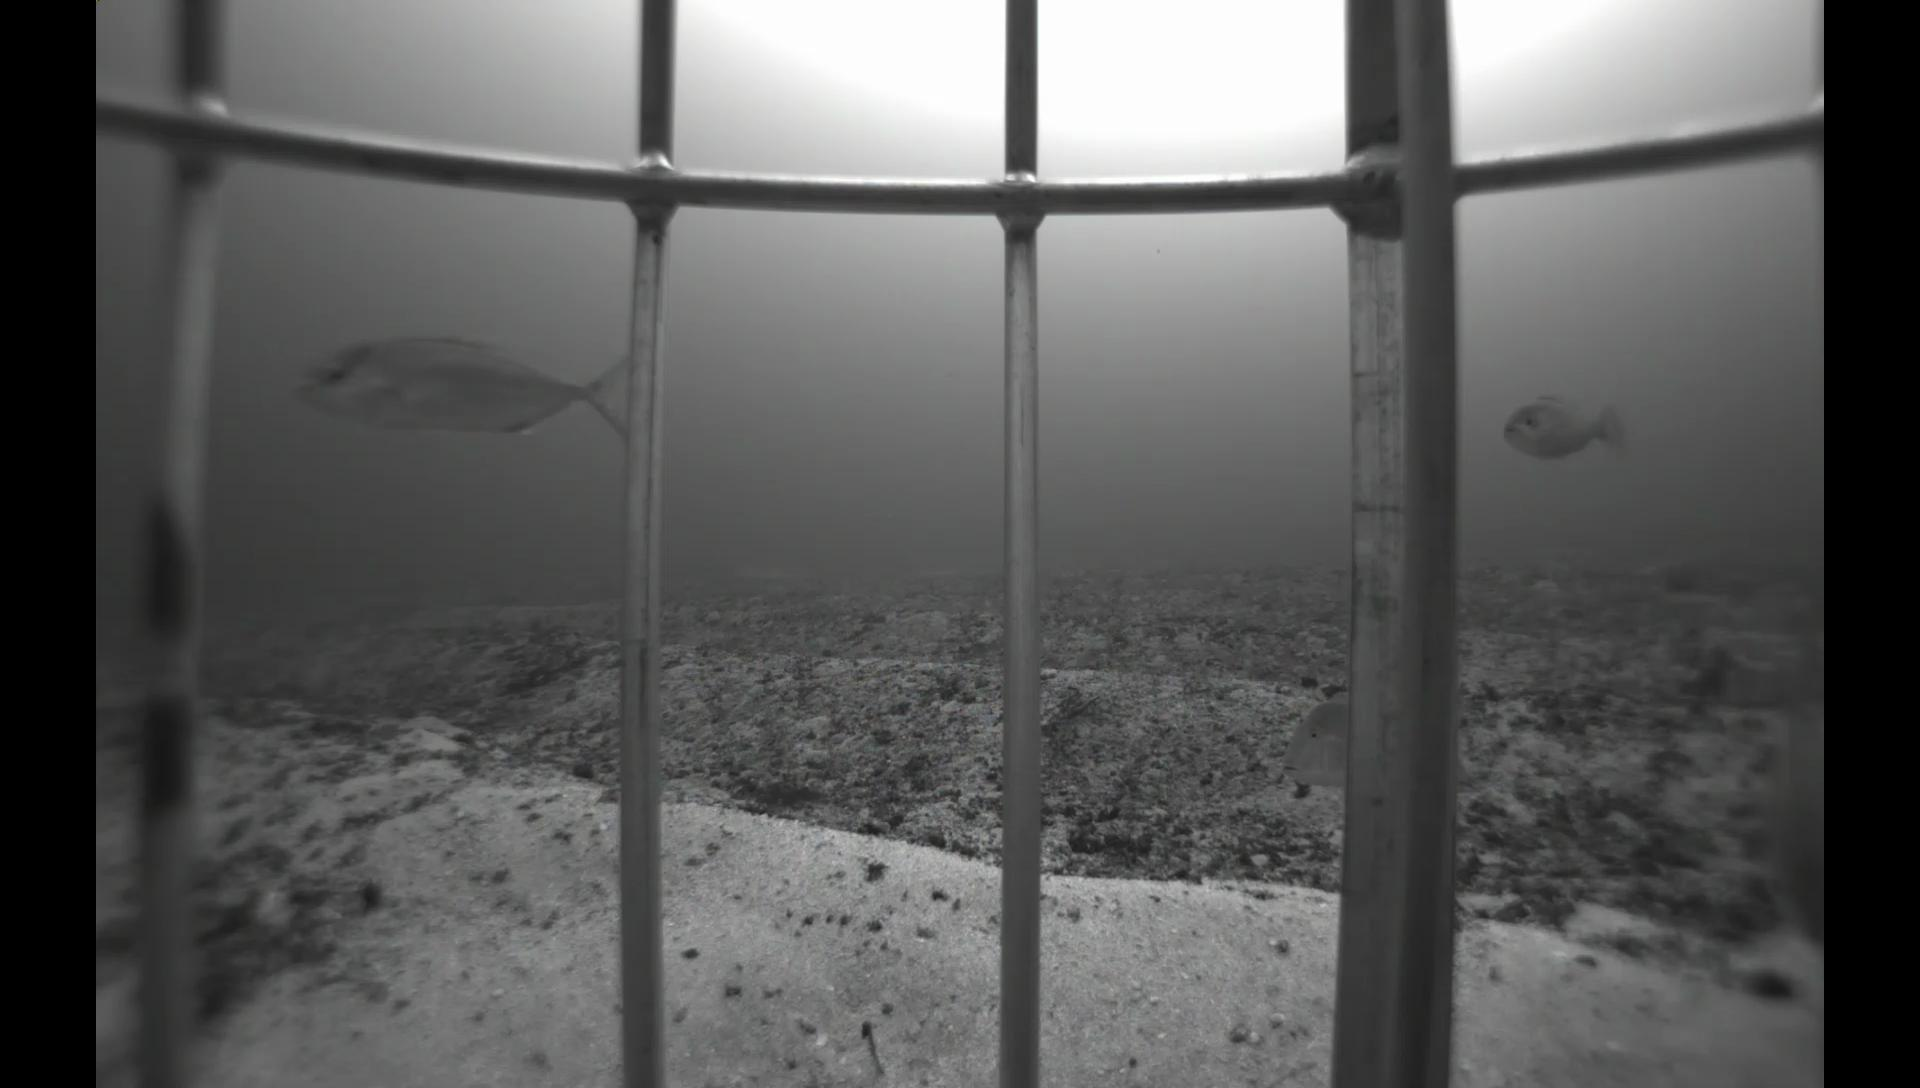CALAMUSPRORIDENS-170210605: (1275, 691, 1480, 793)
RHOMBOPLITESAURORUBENS-170152001: (1731, 650, 1828, 953), (1486, 386, 1639, 473)
SERIOLAFASCIATA-170113103: (285, 320, 632, 454)
